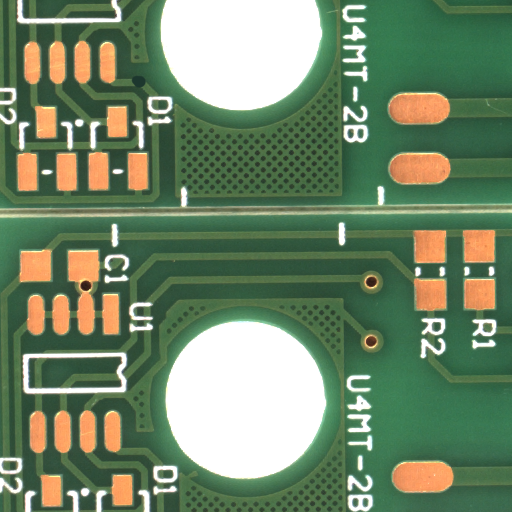Mouse_bite: (138, 81, 149, 92)
